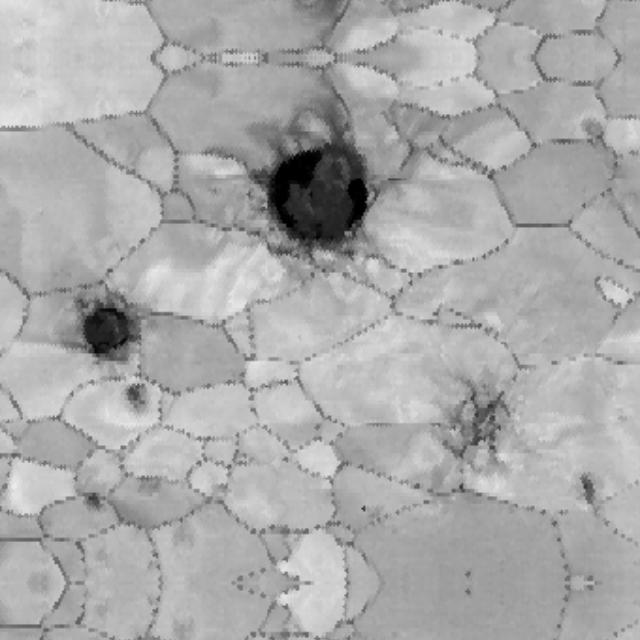good_void: (231, 90, 395, 274), (435, 364, 529, 476), (74, 289, 151, 365), (118, 368, 157, 408), (571, 107, 611, 145), (575, 471, 602, 508), (78, 486, 109, 515), (134, 472, 165, 497), (355, 496, 384, 520)
